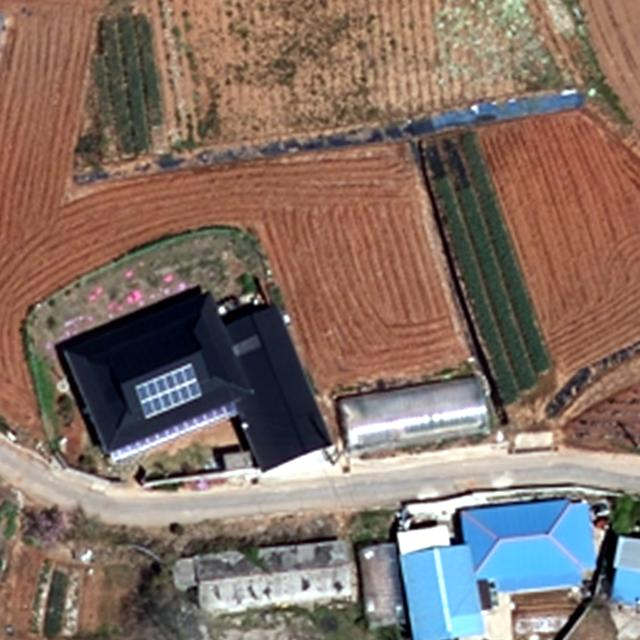panel: (130, 360, 206, 422)
